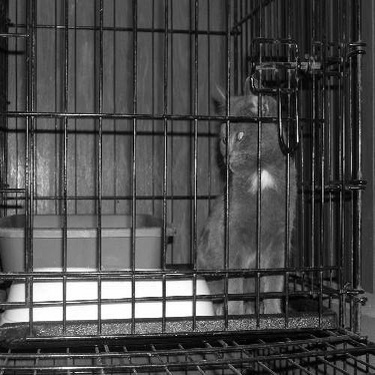cat: (193, 75, 305, 327)
